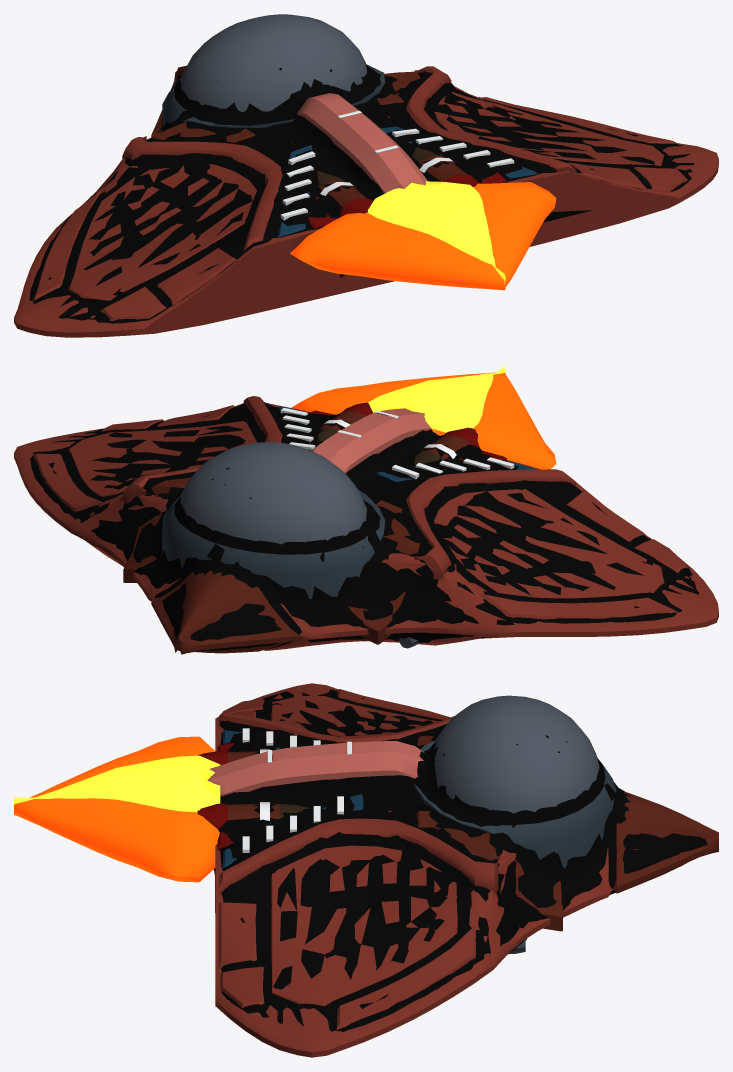
File: companion-ship-warfly.glb
The picture shows the model from 3 angles, top to bottom: view 1: azimuth 30°, elevation 25°; view 2: azimuth 150°, elevation 25°; view 3: azimuth 270°, elevation 25°; orthographic projection. The views are drawn at different scales.
Parts seen in each view (by area): view 1: sidekick-companion-ship-warfly, sidekick-companion-ship-warfly_outline, warfly_flame_87, warfly_flame_core_87; view 2: sidekick-companion-ship-warfly, sidekick-companion-ship-warfly_outline, warfly_flame_87, warfly_flame_core_87; view 3: sidekick-companion-ship-warfly, sidekick-companion-ship-warfly_outline, warfly_flame_87, warfly_flame_core_87.
Boxes of the visible parts, x1=… form: sidekick-companion-ship-warfly: x1=14, y1=14, x2=718, y2=337; sidekick-companion-ship-warfly_outline: x1=29, y1=20, x2=694, y2=323; warfly_flame_87: x1=290, y1=182, x2=556, y2=290; warfly_flame_core_87: x1=367, y1=181, x2=505, y2=284; sidekick-companion-ship-warfly: x1=14, y1=396, x2=718, y2=654; sidekick-companion-ship-warfly_outline: x1=29, y1=402, x2=698, y2=650; warfly_flame_87: x1=291, y1=372, x2=556, y2=469; warfly_flame_core_87: x1=368, y1=366, x2=505, y2=434; sidekick-companion-ship-warfly: x1=197, y1=683, x2=718, y2=1057; sidekick-companion-ship-warfly_outline: x1=213, y1=689, x2=707, y2=1031; warfly_flame_87: x1=14, y1=736, x2=219, y2=882; warfly_flame_core_87: x1=14, y1=755, x2=220, y2=812.
Size of the model in its own units: 1.46 by 0.3308 by 1.18.
17 materials, 10 textured.
